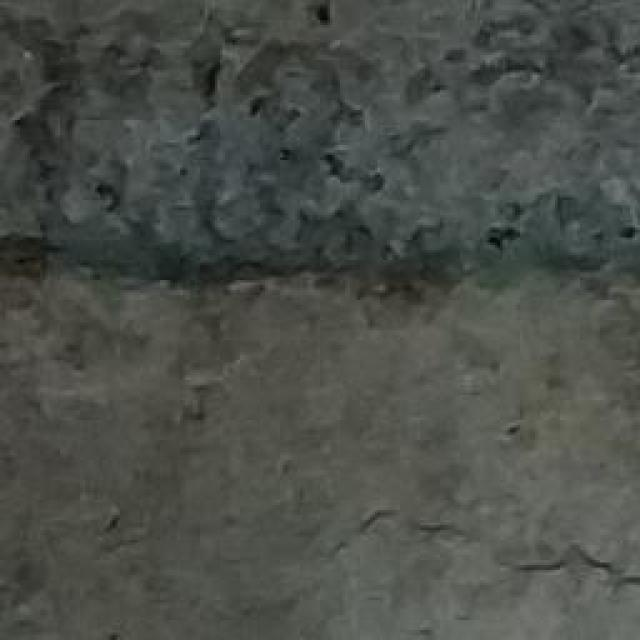Rippled: (0, 0, 640, 220)
Transverse: (0, 230, 630, 320), (283, 497, 640, 599)
